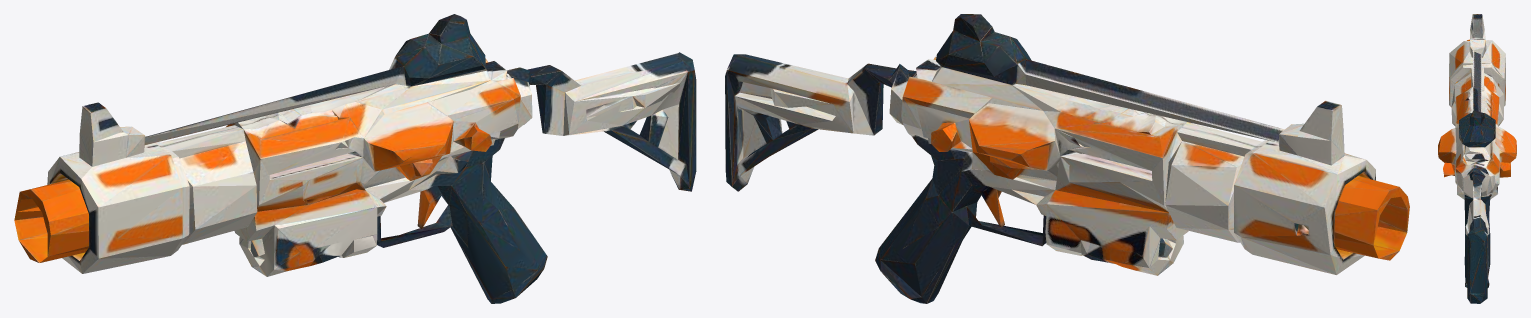
File: steel_rifle.glb
3 renders of one model, left to right at view 1: azimuth 30°, elevation 25°; view 2: azimuth 150°, elevation 25°; view 3: azimuth 270°, elevation 25°, orthographic. The views are drawn at different scales.
Visible parts, largest first — view 1: Mesh_0; view 2: Mesh_0; view 3: Mesh_0.
Boxes of the visible parts, x1,y1,x2,y2 form: Mesh_0: [14, 14, 696, 303]; Mesh_0: [725, 14, 1409, 303]; Mesh_0: [1438, 14, 1516, 303].
Bounding box in the file's own units: 1.9 × 0.82 × 0.3503.
Materials: 1 (1 with a texture image).
